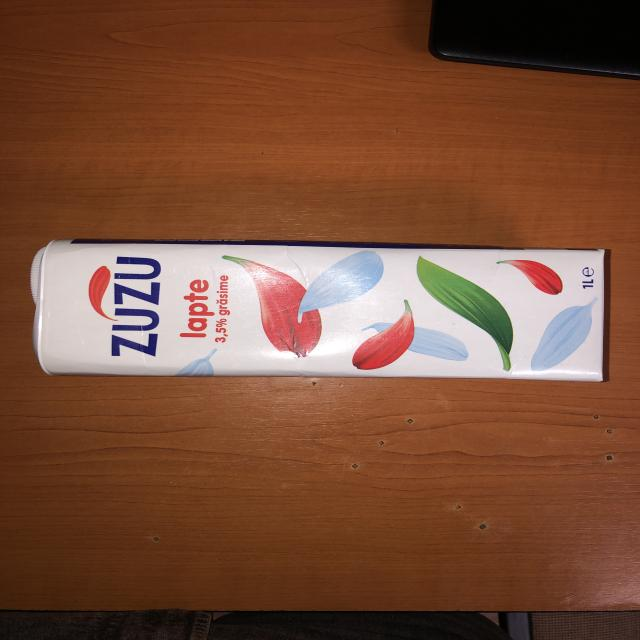milk: (30, 237, 609, 383)
